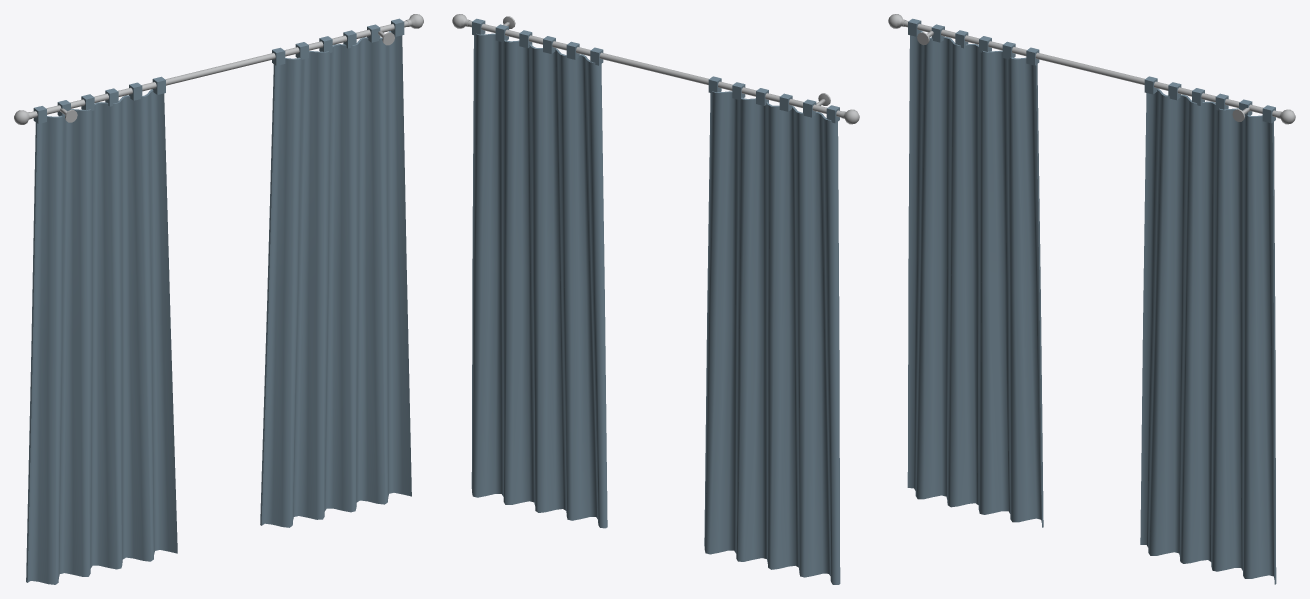
File: Curtains.fbx
3 renders of one model, left to right at view 1: azimuth 30°, elevation 25°; view 2: azimuth 150°, elevation 25°; view 3: azimuth 330°, elevation 25°, orthographic.
Parts seen in each view (by area): view 1: Curtains_Mesh; view 2: Curtains_Mesh; view 3: Curtains_Mesh.
Part boxes in pixels (bbox=[...]): Curtains_Mesh: bbox=[14, 14, 423, 584]; Curtains_Mesh: bbox=[452, 14, 859, 584]; Curtains_Mesh: bbox=[888, 14, 1295, 584].
Size of the model in its own units: 2.06 by 2.3 by 0.1515.
